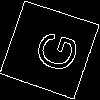G: (25, 24, 81, 76)
